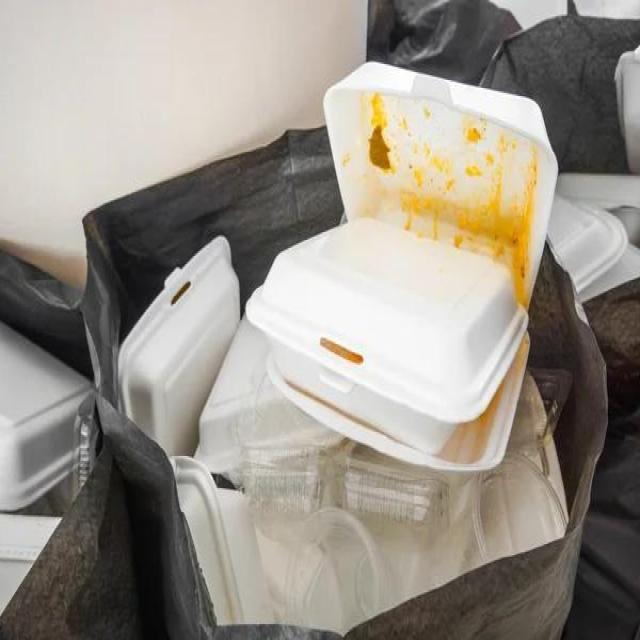Disposable: (119, 64, 558, 477), (172, 458, 275, 625)
Garbage: (85, 0, 640, 639)
contaminated_waste: (238, 446, 581, 640)
